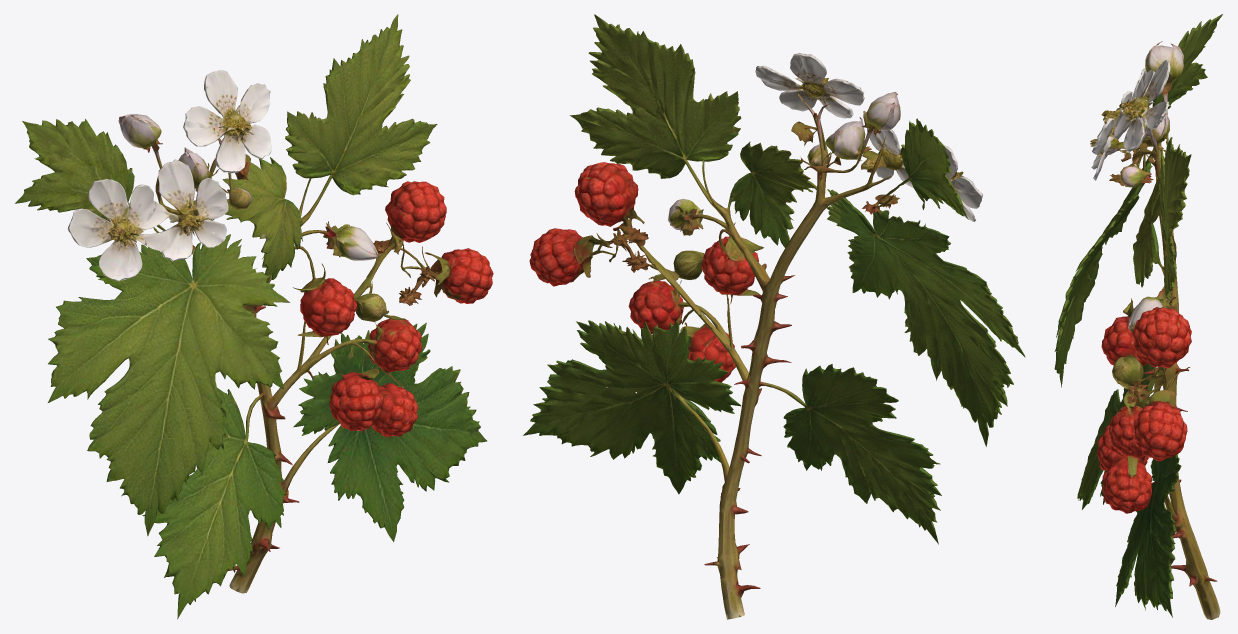
The model's file is KoreanRaspberry.glb.
3 renders of one model, left to right at view 1: azimuth 30°, elevation 25°; view 2: azimuth 150°, elevation 25°; view 3: azimuth 270°, elevation 25°, orthographic. The views are drawn at different scales.
Parts seen in each view (by area): view 1: Mesh_0; view 2: Mesh_0; view 3: Mesh_0.
Part boxes in pixels (bbox=[...]): Mesh_0: bbox=[15, 14, 493, 619]; Mesh_0: bbox=[523, 14, 1025, 619]; Mesh_0: bbox=[1054, 14, 1222, 619].
Bounding box in the file's own units: 0.8878 × 1 × 0.2875.
1 material, 1 textured.
